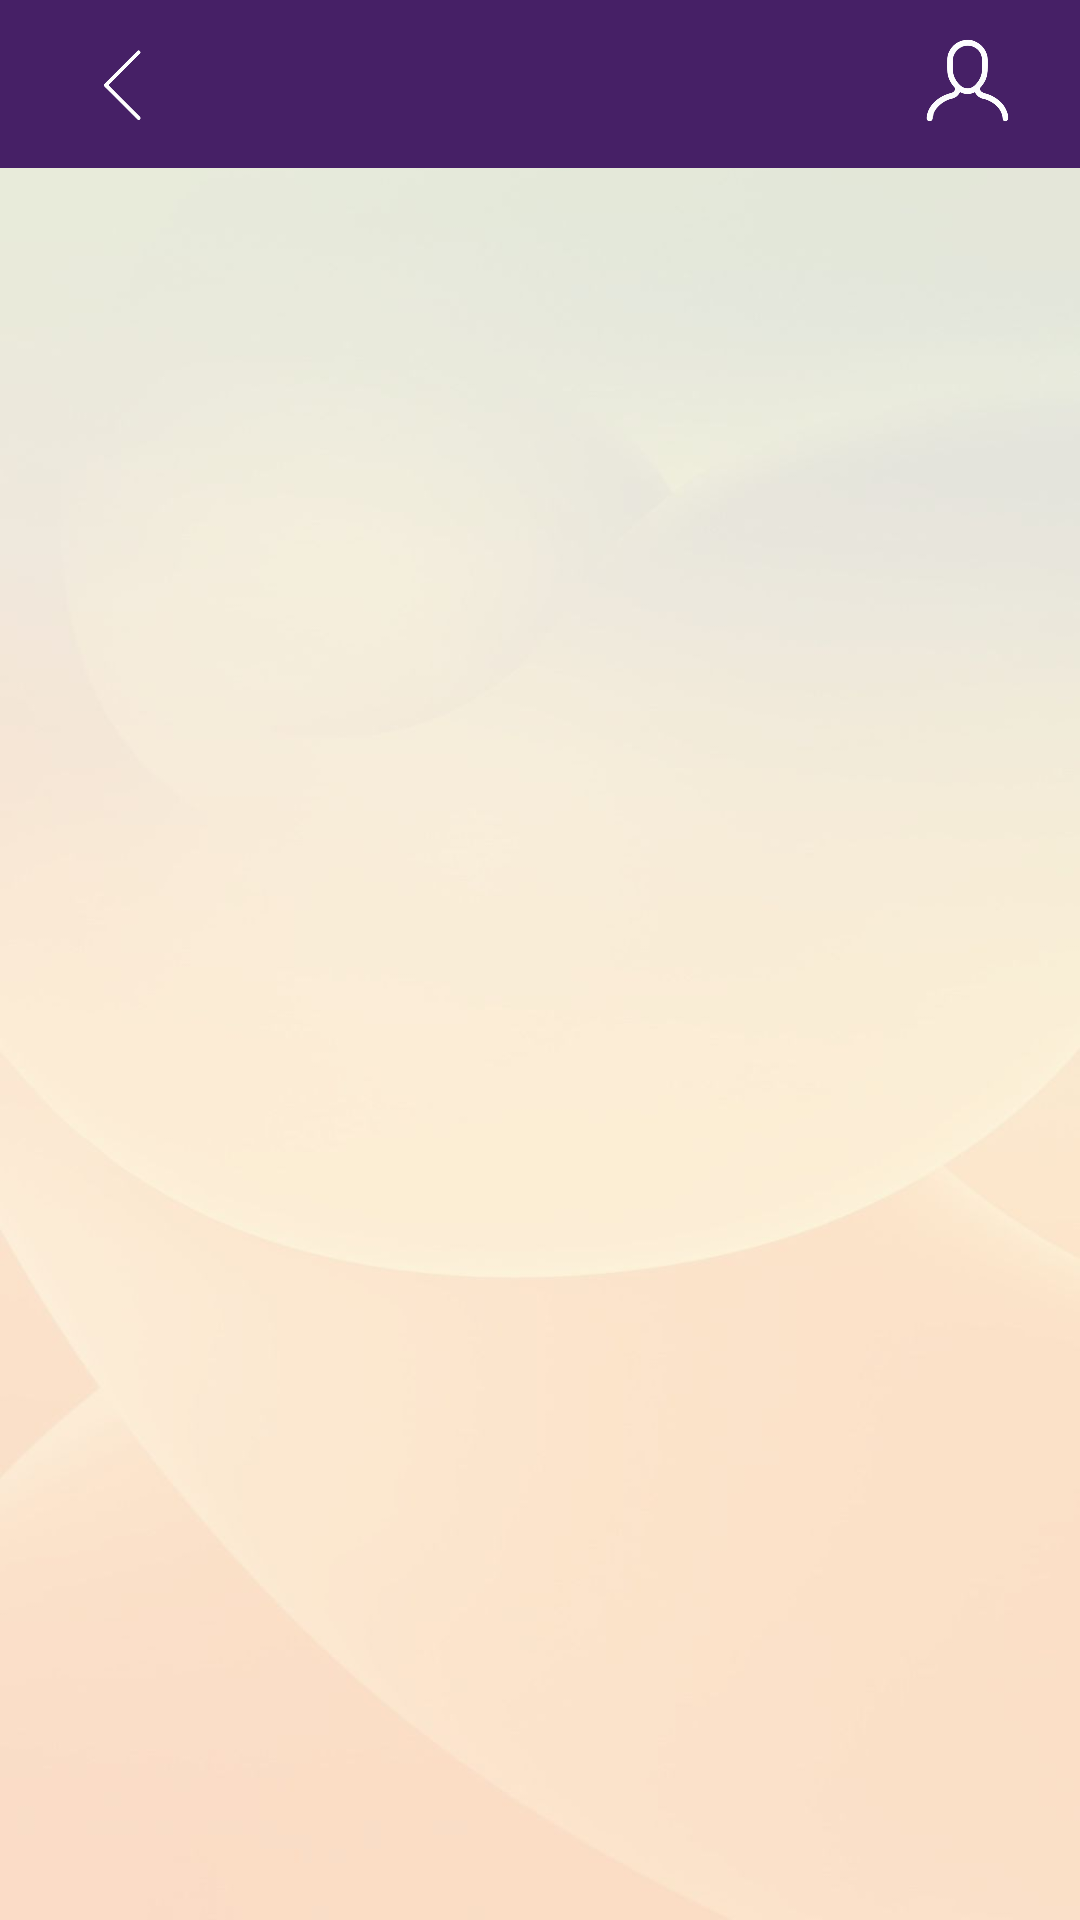

Icons on this 1080*1920 Android screen, each with its box as (x1, y1, x2, y2):
flecha izquierda: (104, 50, 141, 120)
profile: (926, 40, 1008, 121)
